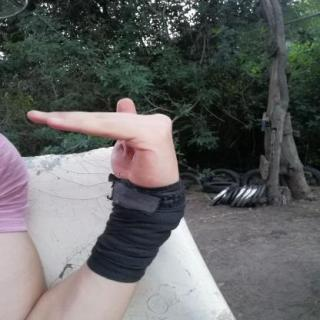KHAA: (15, 88, 193, 202)
